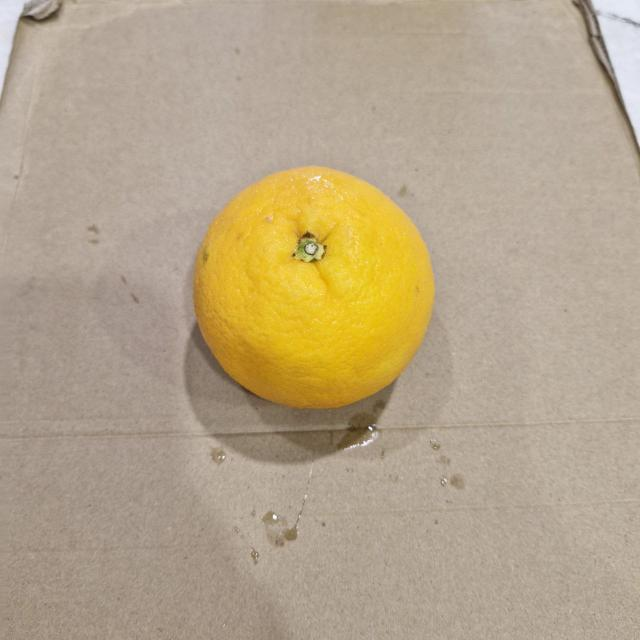food_waste: (187, 157, 445, 416)
